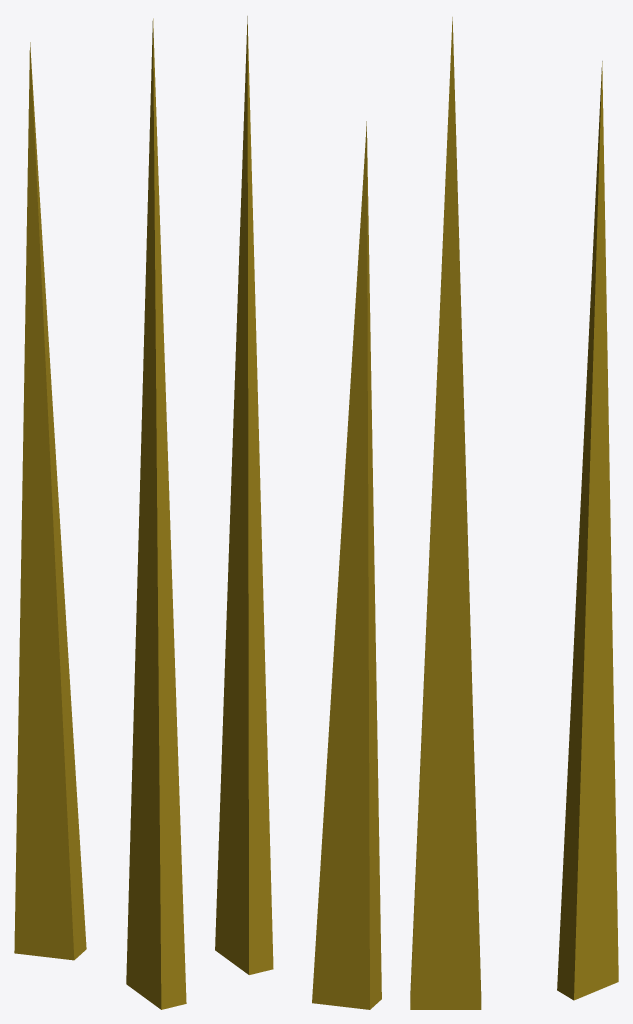
The model's file is Grass_b_04.fbx.
The picture shows the model from 3 angles, left to right: view 1: azimuth 30°, elevation 25°; view 2: azimuth 210°, elevation 25°; view 3: azimuth 270°, elevation 25°; orthographic projection. The views are drawn at different scales.
Visible parts, largest first — view 1: Grass_b_04_LOD0; view 2: Grass_b_04_LOD0; view 3: Grass_b_04_LOD0.
Boxes of the visible parts, x1,y1,x2,y2 form: Grass_b_04_LOD0: (14, 18, 186, 1009); Grass_b_04_LOD0: (215, 16, 381, 1009); Grass_b_04_LOD0: (410, 17, 618, 1009).
Size of what is drawn, in the model's own units: 1.53 by 18.5 by 3.53.
